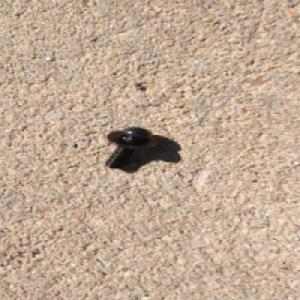BoltWasher: (101, 126, 159, 170)
